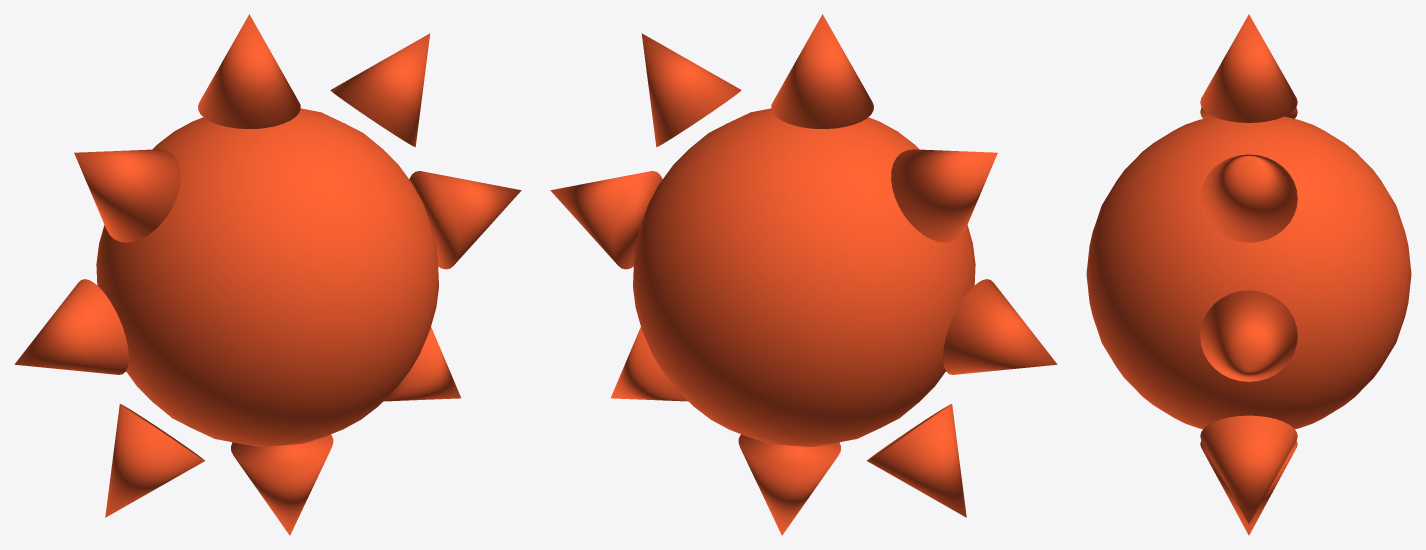
Rendered from sunMark.obj.
3 views of the same model, side by side, from view 1: azimuth 30°, elevation 25°; view 2: azimuth 150°, elevation 25°; view 3: azimuth 270°, elevation 25° (orthographic). The views are drawn at different scales.
Visible parts, largest first — view 1: 円錐.004; view 2: 円錐.004; view 3: 円錐.004.
Part boxes in pixels (x1,y1,x2,y2): 円錐.004: (14,14,521,535); 円錐.004: (550,14,1057,535); 円錐.004: (1086,14,1411,535).
Size of the model in its own units: 3.41 by 3.42 by 2.
